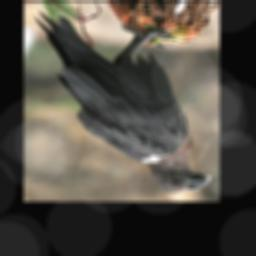Crow: (32, 10, 209, 194)
